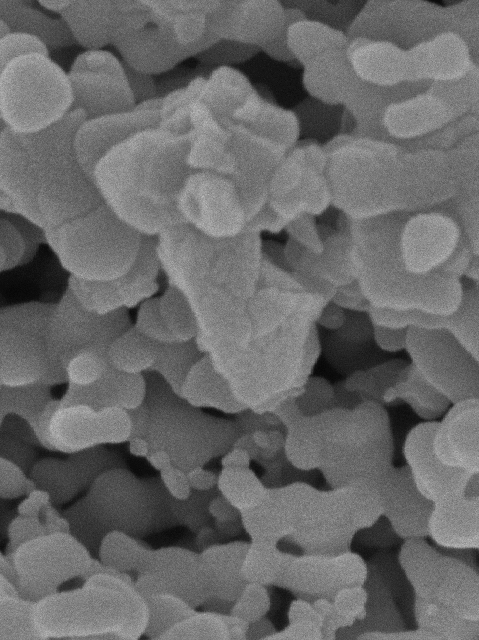nano: (400, 212, 460, 276)
